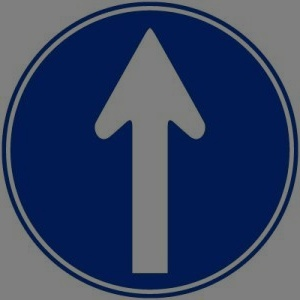Direction_sign: (3, 1, 297, 296)
